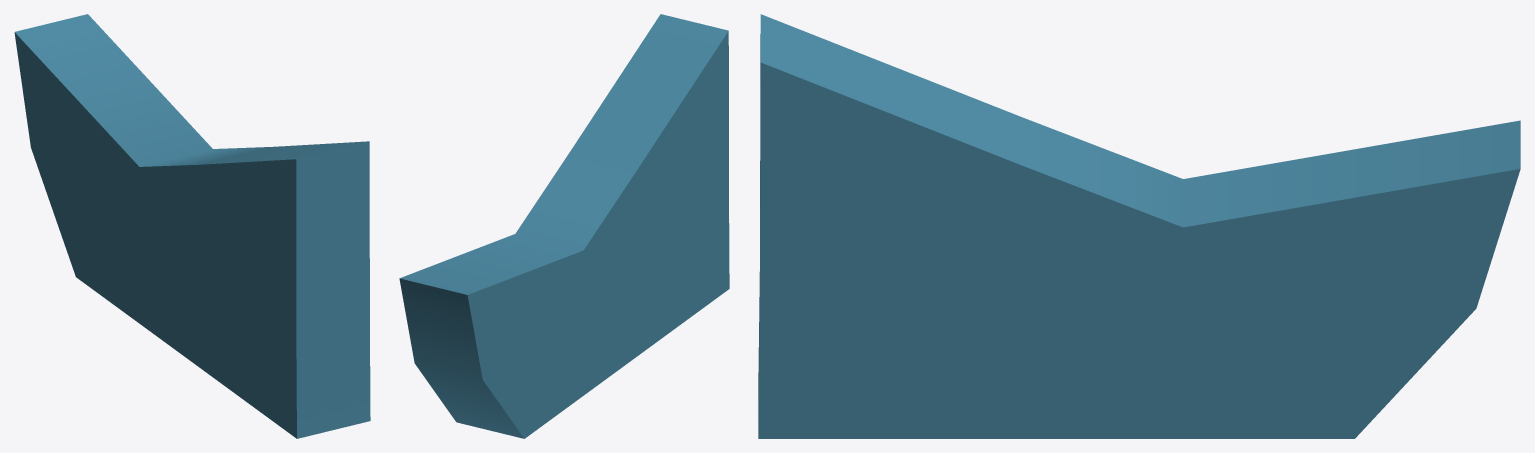
File: NexusC_Trigger_34.fbx
3 renders of one model, left to right at view 1: azimuth 30°, elevation 25°; view 2: azimuth 150°, elevation 25°; view 3: azimuth 270°, elevation 25°, orthographic. The views are drawn at different scales.
Parts seen in each view (by area): view 1: polySurface16; view 2: polySurface16; view 3: polySurface16.
Boxes of the visible parts, x1,y1,x2,y2 form: polySurface16: (14, 14, 370, 438); polySurface16: (399, 14, 729, 438); polySurface16: (758, 14, 1520, 438).
Bounding box in the file's own units: 10.17 × 36.89 × 67.69.
